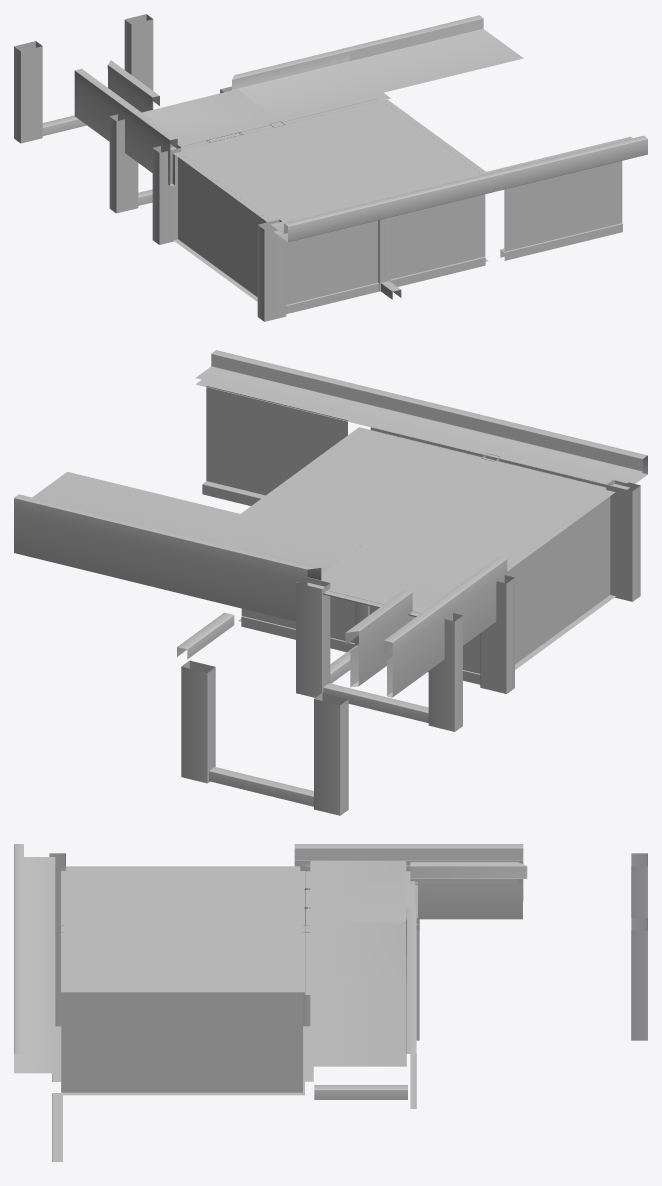
The model's file is store_prefab.FBX.
3 views of the same model, one above another, from view 1: azimuth 30°, elevation 25°; view 2: azimuth 150°, elevation 25°; view 3: azimuth 270°, elevation 25° (orthographic). The views are drawn at different scales.
Visible parts, largest first — view 1: 333_floor_class_004, storeRoomwall, 333_corridor_wall005, walkwayPillar, 333_corridor_wall006, 333_wall_blackboard009, 333_corridor_wall008, 333_pillar_021, 333_corridor_floor003, 333_corridor_wall_end006, 333_pillar_top_036, 333_pillar_top_030 (+2 smaller); view 2: 333_floor_class_004, 333_corridor_wall005, walkwayPillar, 333_corridor_wall006, storeRoomwall, 333_wall_blackboard009, 333_corridor_wall008, 333_pillar_021, 333_corridor_wall_end006, 333_corridor_floor003, 333_pillar_top_029, 333_pillar_top_036; view 3: 333_floor_class_004, 333_wall_blackboard009, 333_corridor_wall005, 333_corridor_wall006, 333_corridor_wall_end006, walkwayPillar, 333_corridor_wall008, 333_pillar_021, 333_corridor_floor003, 333_ceiling_015, 333_pillar_top_036, 333_pillar_top_029.
Part boxes in pixels (x1,y1,x2,y2): 333_floor_class_004: [174, 99, 485, 226]; storeRoomwall: [181, 99, 622, 304]; 333_corridor_wall005: [142, 48, 509, 242]; walkwayPillar: [14, 14, 286, 321]; 333_corridor_wall006: [346, 15, 647, 187]; 333_wall_blackboard009: [178, 157, 266, 296]; 333_corridor_wall008: [74, 68, 177, 186]; 333_pillar_021: [42, 115, 401, 299]; 333_corridor_floor003: [170, 92, 390, 150]; 333_corridor_wall_end006: [107, 60, 159, 112]; 333_pillar_top_036: [500, 223, 622, 260]; 333_pillar_top_030: [286, 282, 379, 313]; 333_floor_class_004: [241, 427, 615, 571]; 333_corridor_wall005: [174, 390, 647, 621]; walkwayPillar: [181, 480, 640, 815]; 333_corridor_wall006: [14, 350, 381, 591]; storeRoomwall: [206, 386, 613, 673]; 333_wall_blackboard009: [507, 496, 610, 664]; 333_corridor_wall008: [384, 556, 507, 697]; 333_pillar_021: [177, 453, 499, 806]; 333_corridor_wall_end006: [345, 590, 412, 687]; 333_corridor_floor003: [307, 547, 429, 615]; 333_pillar_top_029: [241, 616, 354, 652]; 333_pillar_top_036: [202, 481, 265, 505]; 333_floor_class_004: [61, 866, 304, 992]; 333_wall_blackboard009: [61, 992, 302, 1092]; 333_corridor_wall005: [14, 844, 416, 988]; 333_corridor_wall006: [14, 973, 416, 1108]; 333_corridor_wall_end006: [410, 862, 527, 919]; walkwayPillar: [49, 853, 647, 1040]; 333_corridor_wall008: [294, 844, 523, 900]; 333_pillar_021: [55, 925, 407, 1099]; 333_corridor_floor003: [305, 865, 414, 994]; 333_ceiling_015: [61, 1081, 304, 1095]; 333_pillar_top_036: [52, 1093, 62, 1161]; 333_pillar_top_029: [303, 1026, 313, 1081].
Bounding box in the file's own units: 1369 × 370 × 1706.
